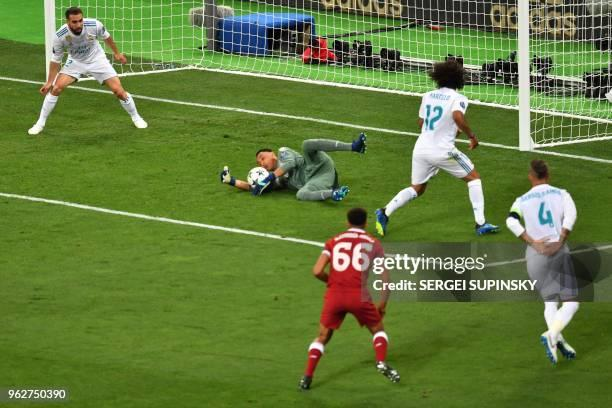Goalkeeper: (220, 133, 367, 201)
Player: (375, 60, 500, 236), (299, 208, 400, 390), (27, 6, 148, 135), (506, 159, 580, 366)
ball: (247, 167, 270, 185)
